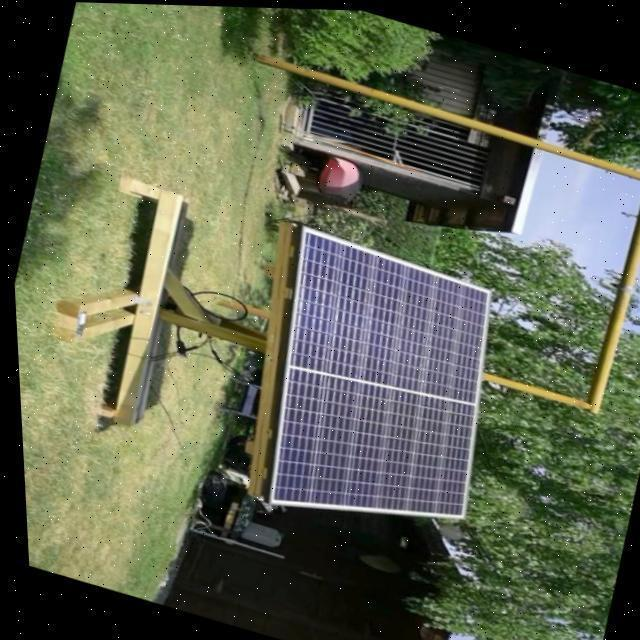Normal Solar Panel: (218, 219, 520, 555)
